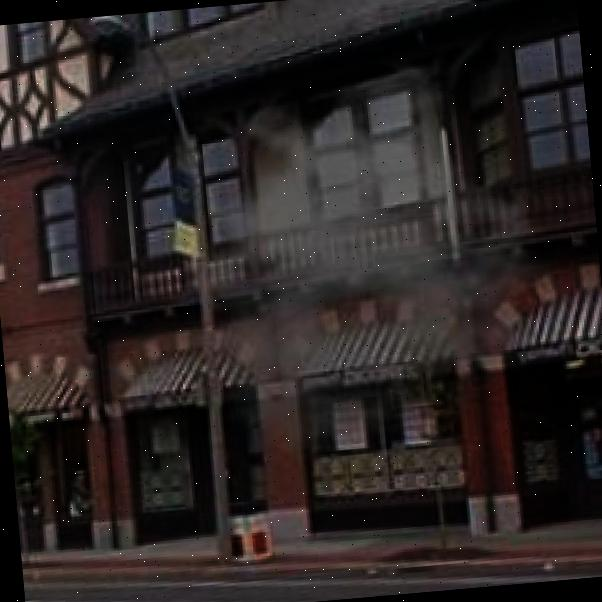smoke: (128, 53, 579, 471)
